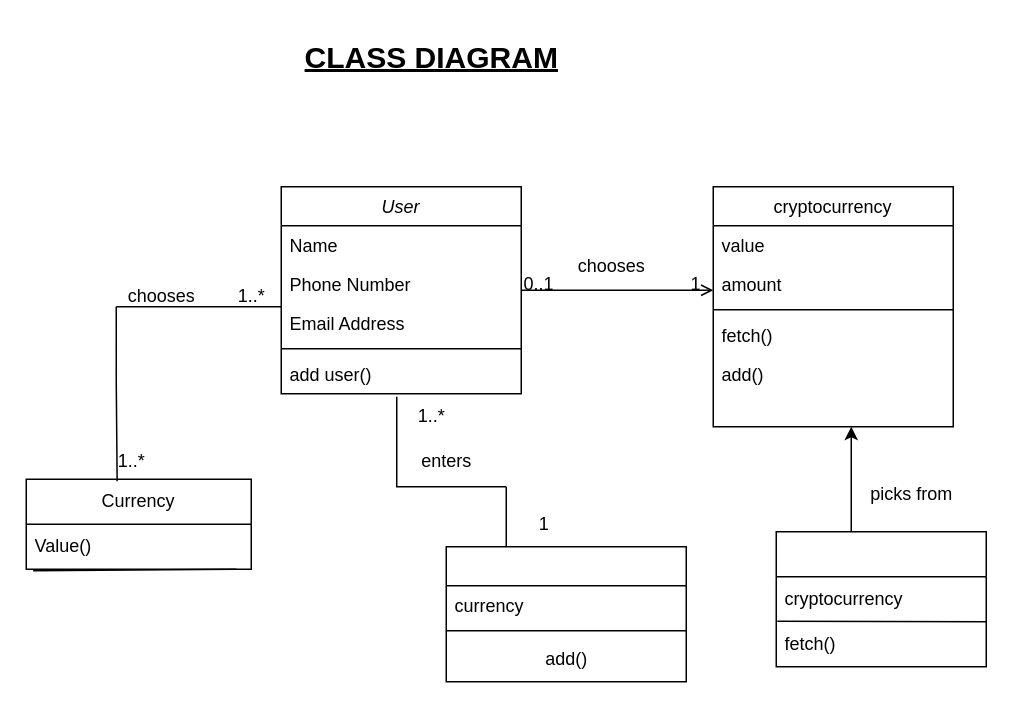
Some shapes in this 1014 by 708 pixel diagram are drawn without their labels. The shapes that lost their labels are listed below. From the top down, each one's box as (x1, y1, x2, y2) in pixels, then its label:
(445, 545, 686, 682): Input
(775, 530, 986, 667): output
